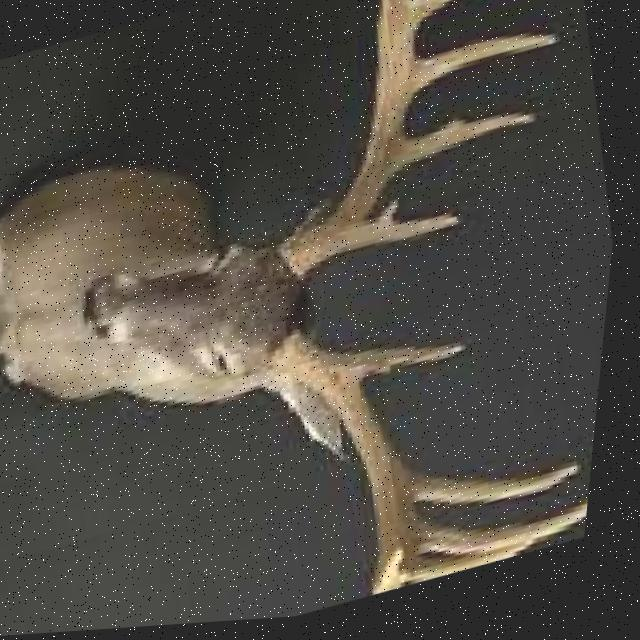E1: (378, 205, 403, 236)
L-F: (281, 0, 412, 287)
L-G1: (350, 219, 465, 256)
L-G2: (396, 120, 536, 177)
L-G3: (414, 38, 560, 98)
L-G4: (409, 0, 466, 32)
R-F: (277, 334, 420, 601)
R-G1: (348, 347, 472, 387)
R-G2: (418, 467, 589, 511)
R-G4: (414, 550, 544, 592)
